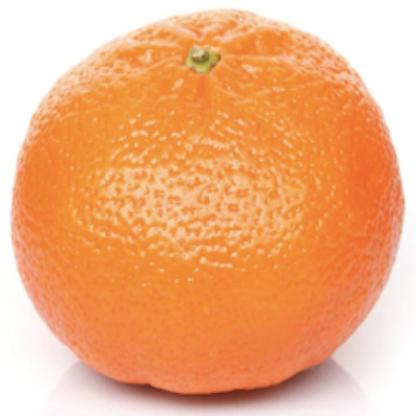fresh: (8, 11, 408, 392)
